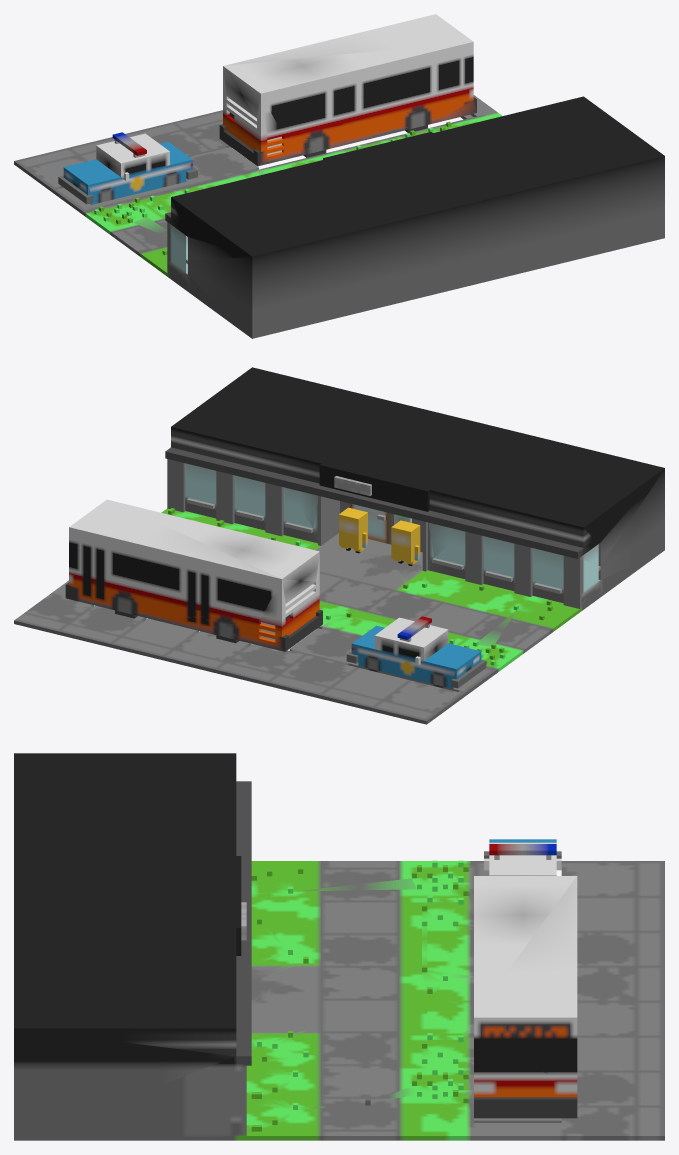
The model's file is scene_shop.dae.
The picture shows the model from 3 angles, top to bottom: view 1: azimuth 30°, elevation 25°; view 2: azimuth 150°, elevation 25°; view 3: azimuth 270°, elevation 25°; orthographic projection. The views are drawn at different scales.
Parts seen in each view (by area): view 1: scene_shop; view 2: scene_shop; view 3: scene_shop.
Part boxes in pixels (bbox=[...]): scene_shop: bbox=[14, 14, 664, 338]; scene_shop: bbox=[14, 367, 664, 724]; scene_shop: bbox=[14, 753, 664, 1140].
Size of the model in its own units: 12.6 by 12.6 by 2.4.
